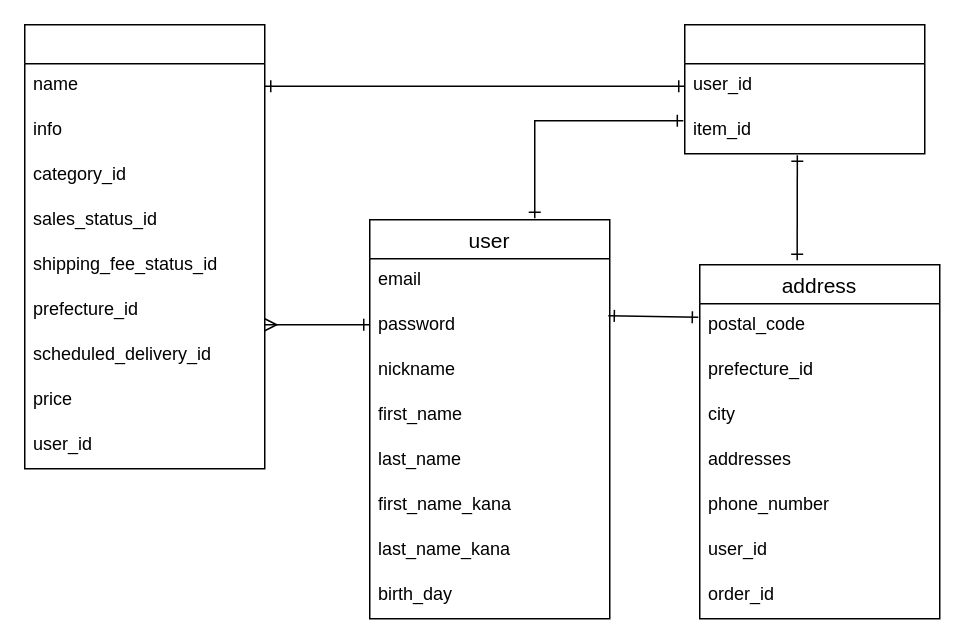
This 965x644 diagram has some shape labels left out. Each missing label, with the box of its shape:
item: (23, 23, 265, 469)
order: (683, 23, 925, 154)
